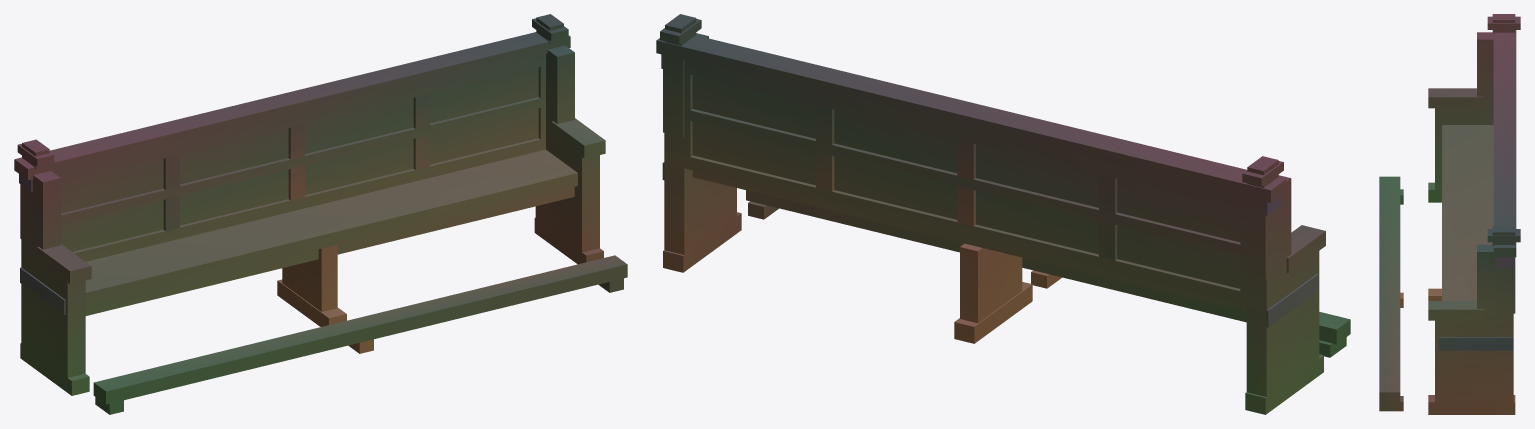
File: pew_3m.glb
3 renders of one model, left to right at view 1: azimuth 30°, elevation 25°; view 2: azimuth 150°, elevation 25°; view 3: azimuth 270°, elevation 25°, orthographic. The views are drawn at different scales.
Visible parts, largest first — view 1: pew, pew_iron; view 2: pew, pew_iron; view 3: pew, pew_iron.
Boxes of the visible parts, <box> form: pew: <box>14,14,627,414</box>; pew_iron: <box>19,174,65,315</box>; pew: <box>656,14,1350,414</box>; pew_iron: <box>661,54,1318,327</box>; pew: <box>1379,14,1520,414</box>; pew_iron: <box>1438,257,1515,350</box>.
Size of the model in its own units: 3.04 by 1.15 by 0.81.
